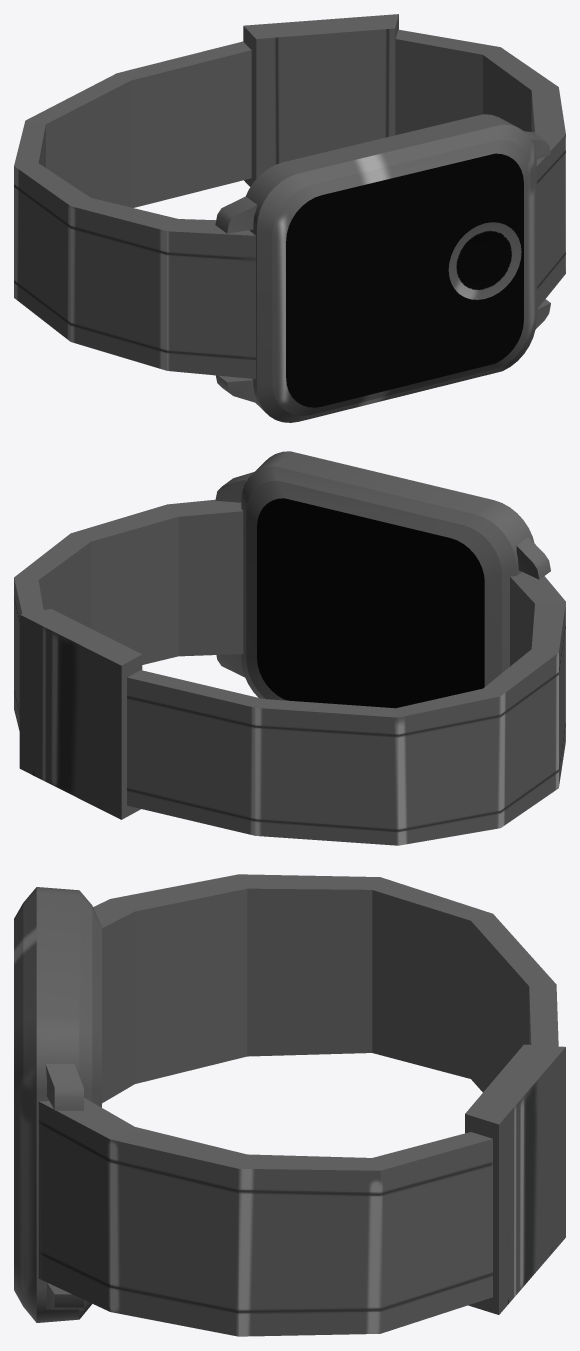
Rendered from timeCardWatch.obj.
The picture shows the model from 3 angles, top to bottom: view 1: azimuth 30°, elevation 25°; view 2: azimuth 150°, elevation 25°; view 3: azimuth 270°, elevation 25°; orthographic projection. The views are drawn at different scales.
Parts seen in each view (by area): view 1: Circle; view 2: Circle; view 3: Circle.
Part boxes in pixels (box(x1,y1,x2,y2)): Circle: box(14, 14, 565, 422); Circle: box(14, 451, 565, 845); Circle: box(14, 874, 565, 1336).
Size of the model in its own units: 0.0726 by 0.0353 by 0.0575.
1 material, 1 textured.
